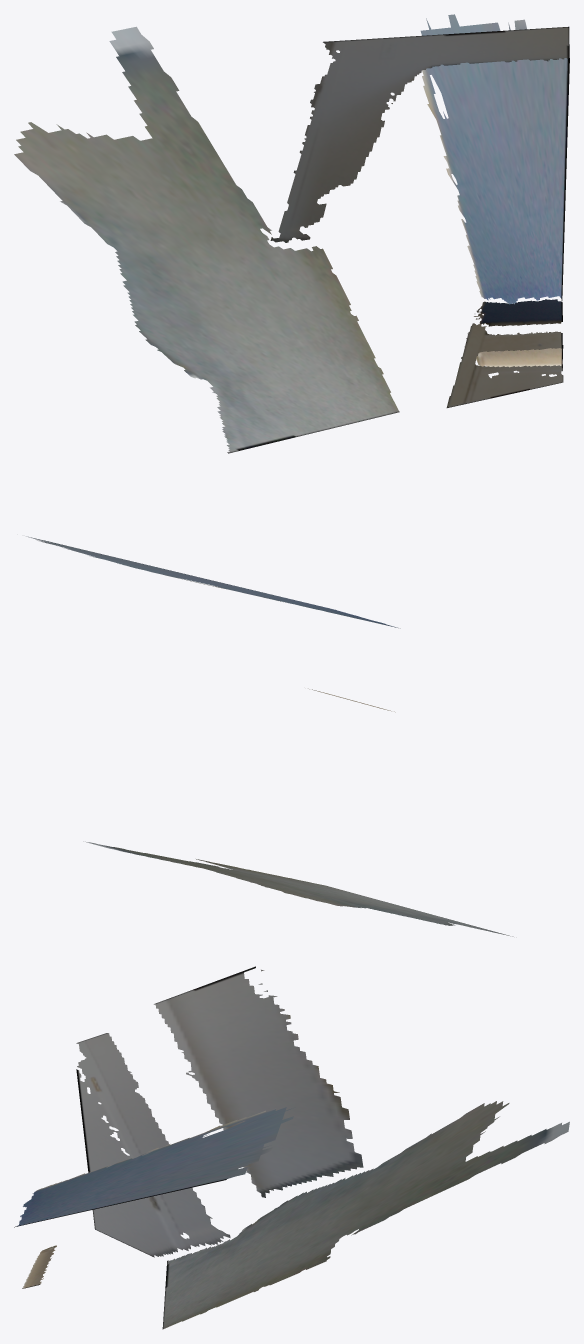
Rendered from 360_d2_depth_GTplane_gt_model.glb.
3 renders of one model, top to bottom at view 1: azimuth 30°, elevation 25°; view 2: azimuth 150°, elevation 25°; view 3: azimuth 270°, elevation 25°, orthographic. The views are drawn at different scales.
Bounding box in the file's own units: 2.26 × 1.81 × 3.07.
